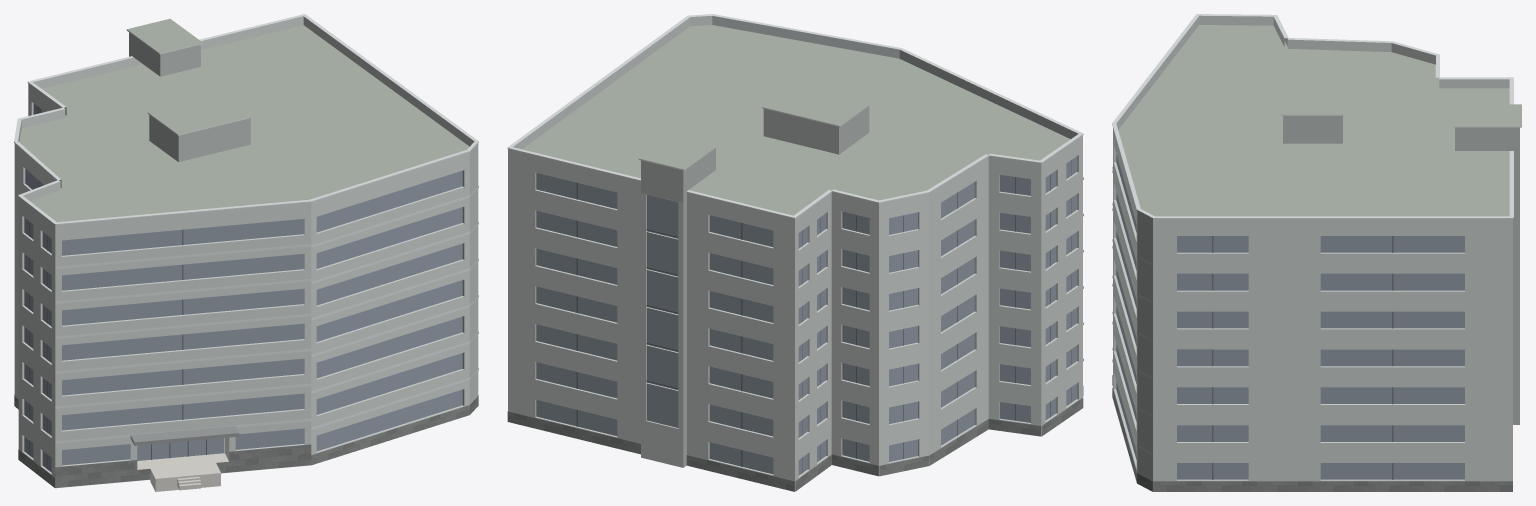
3 views of the same model, side by side, from view 1: azimuth 30°, elevation 25°; view 2: azimuth 150°, elevation 25°; view 3: azimuth 270°, elevation 25° (orthographic). The views are drawn at different scales.
Visible parts, largest first — view 1: b67__wall, b67__roof, b67__glass, b67__trim, b67__parapet, b67__base, b67__wall2, b67__entranceStair, b67__canopy, b67__frame; view 2: b67__wall, b67__roof, b67__glass, b67__parapet, b67__wall2, b67__base, b67__trim, b67__frame; view 3: b67__wall, b67__roof, b67__glass, b67__parapet, b67__wall2, b67__trim, b67__base, b67__frame.
Boxes of the visible parts, x1=… form: b67__wall: x1=14, y1=91, x2=478, y2=487; b67__roof: x1=19, y1=18, x2=469, y2=488; b67__glass: x1=24, y1=103, x2=462, y2=472; b67__trim: x1=14, y1=14, x2=478, y2=443; b67__parapet: x1=14, y1=16, x2=478, y2=232; b67__base: x1=14, y1=394, x2=478, y2=487; b67__wall2: x1=129, y1=32, x2=250, y2=162; b67__entranceStair: x1=137, y1=453, x2=228, y2=491; b67__canopy: x1=130, y1=426, x2=239, y2=445; b67__frame: x1=29, y1=107, x2=206, y2=469; b67__wall: x1=508, y1=143, x2=1082, y2=491; b67__roof: x1=522, y1=25, x2=1070, y2=215; b67__glass: x1=536, y1=156, x2=1076, y2=475; b67__parapet: x1=508, y1=16, x2=1082, y2=226; b67__wall2: x1=641, y1=106, x2=869, y2=467; b67__base: x1=507, y1=386, x2=1083, y2=491; b67__trim: x1=507, y1=14, x2=1083, y2=361; b67__frame: x1=576, y1=160, x2=1071, y2=473; b67__wall: x1=1113, y1=134, x2=1512, y2=491; b67__roof: x1=1118, y1=25, x2=1521, y2=216; b67__glass: x1=1116, y1=154, x2=1464, y2=479; b67__parapet: x1=1113, y1=15, x2=1512, y2=226; b67__wall2: x1=1283, y1=116, x2=1519, y2=424; b67__trim: x1=1112, y1=14, x2=1521, y2=454; b67__base: x1=1112, y1=375, x2=1512, y2=491; b67__frame: x1=1212, y1=236, x2=1393, y2=479.
Bounding box in the file's own units: 41.63 × 28.69 × 35.33.
Materials: 11 (1 with a texture image).
